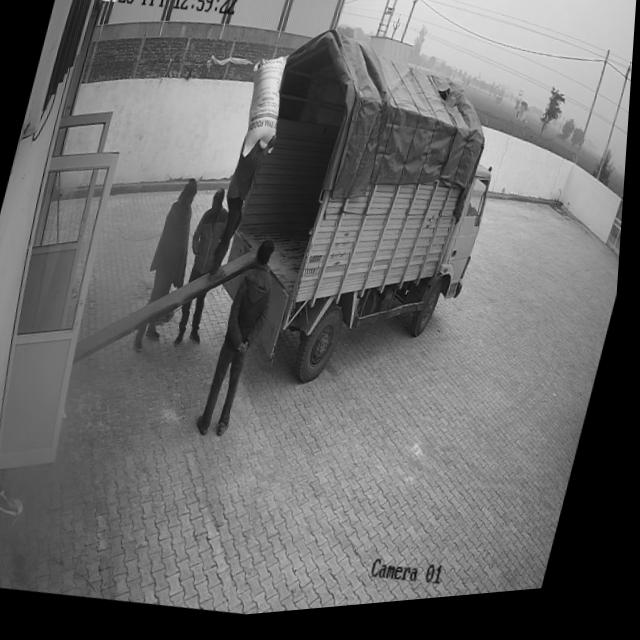sack: (233, 54, 297, 168)
